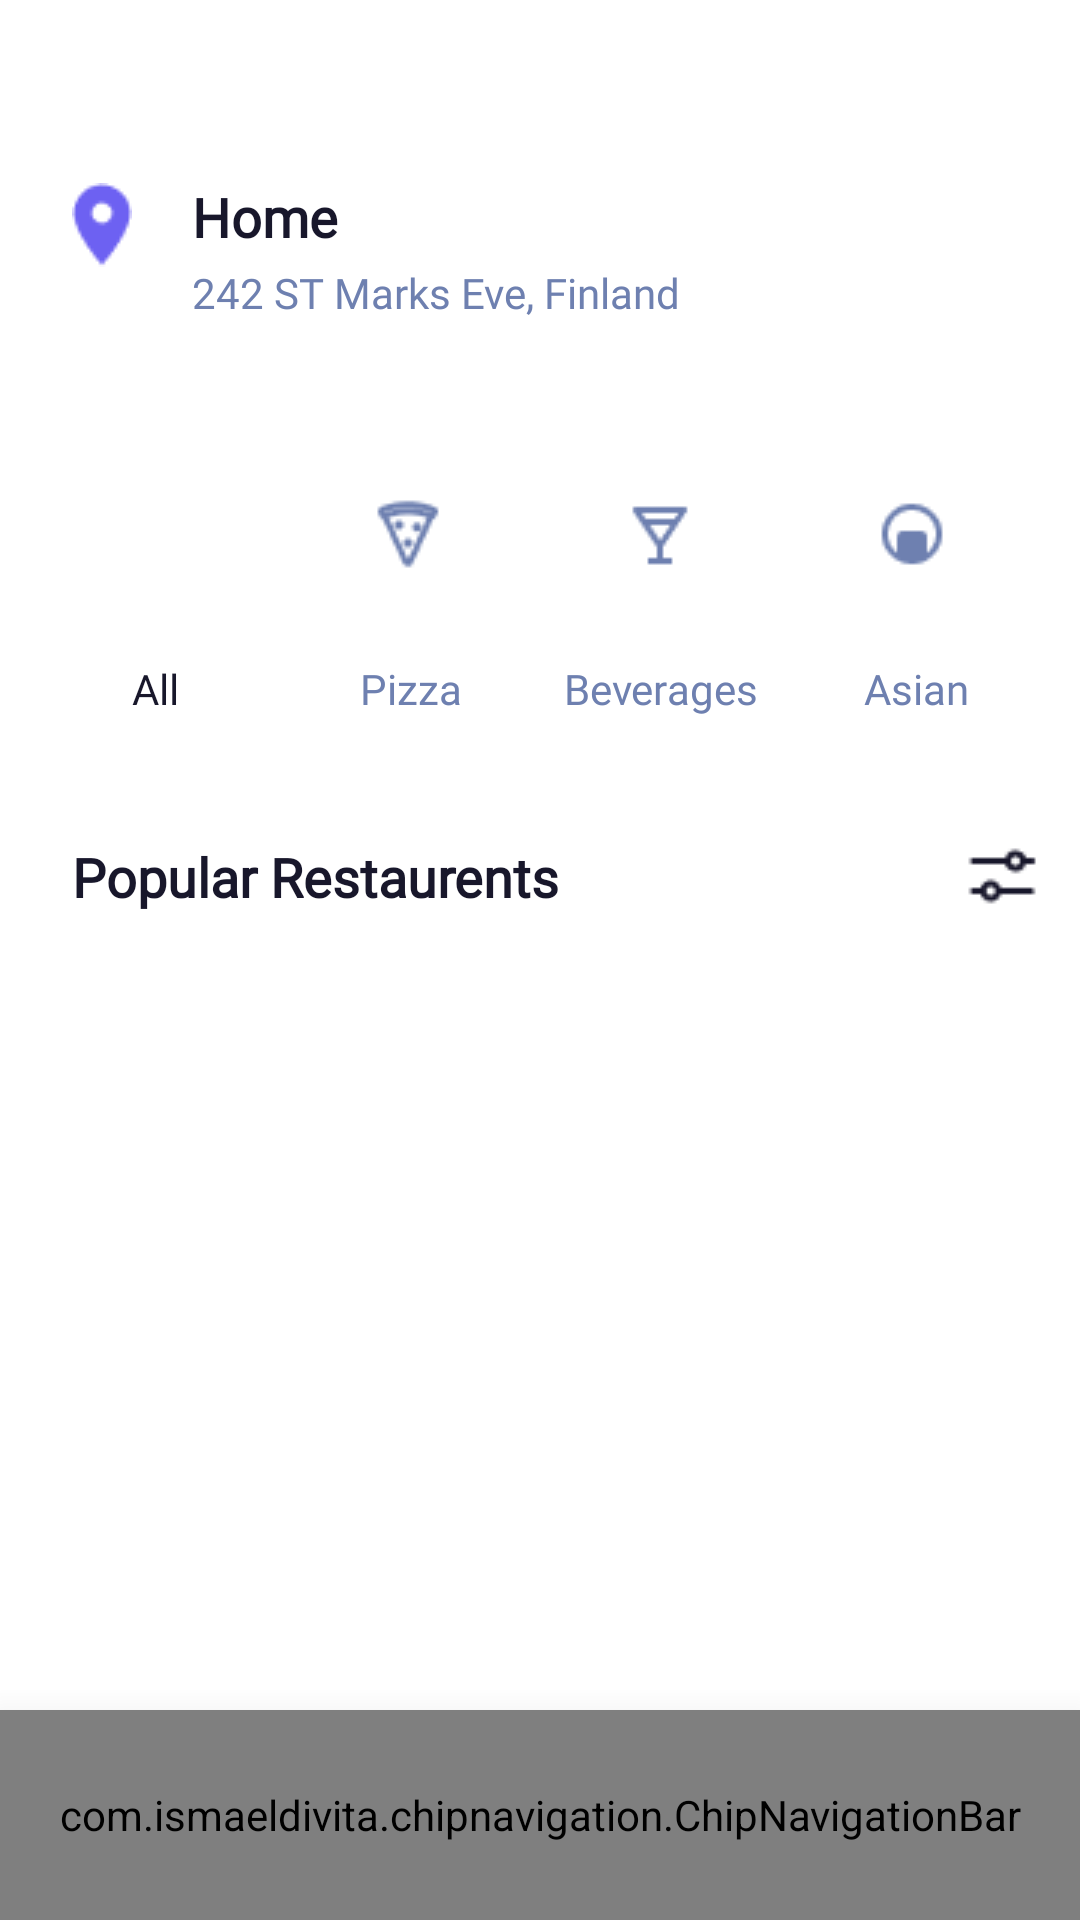

Screen size 1080 x 1920. Icon name, then its box in pixels as (x1, y1, x2, y2):
filter: (968, 848, 1036, 904)
position: (72, 183, 132, 265)
